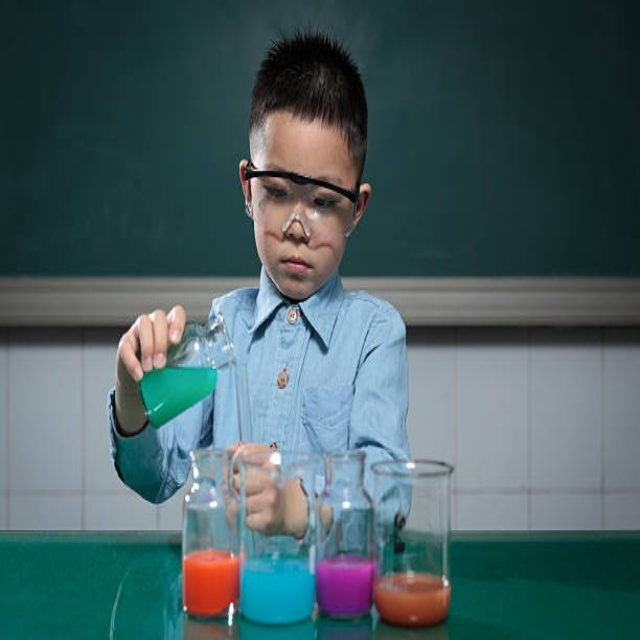Gafas: (243, 162, 362, 243)
Sin_guantes: (224, 443, 325, 541), (117, 301, 189, 404)
Sin_mascara: (268, 242, 324, 298)
